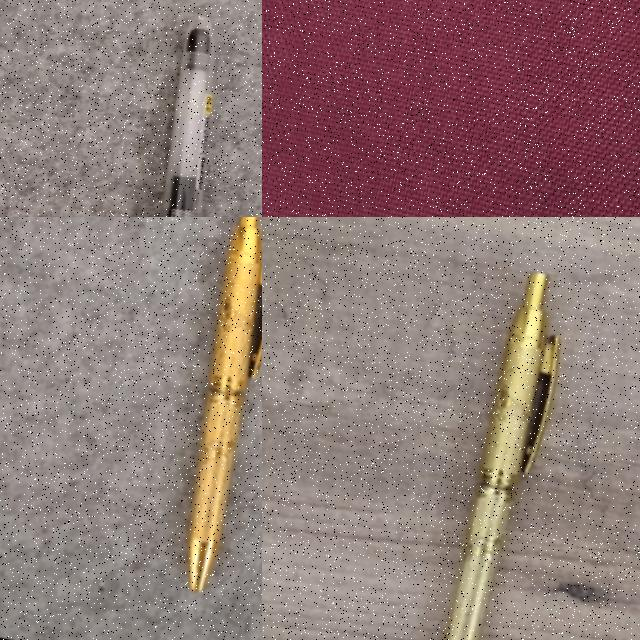pen: (162, 16, 213, 216)
signature pen: (446, 273, 559, 639), (189, 217, 262, 591)
